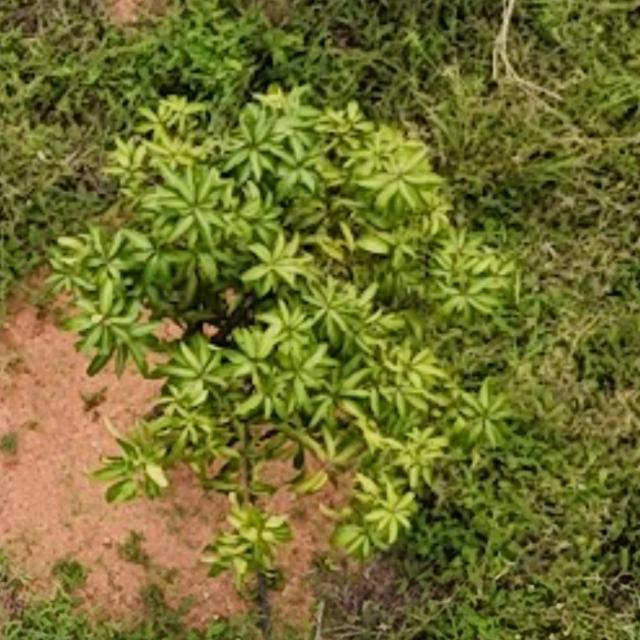mangoTree: (42, 84, 524, 588)
